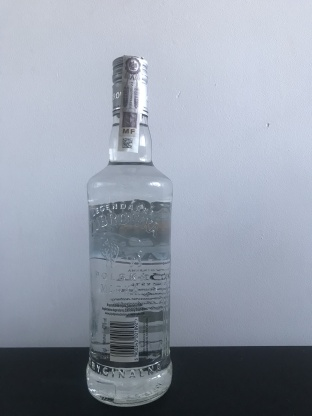nakretka: (109, 50, 151, 119)
